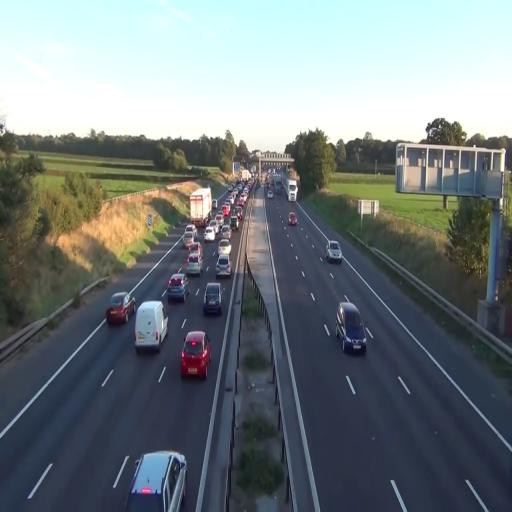vehicle: (126, 450, 188, 512), (134, 299, 169, 355), (134, 300, 169, 354), (336, 300, 366, 354), (180, 330, 211, 379), (190, 186, 212, 231), (106, 291, 134, 326), (203, 283, 223, 316), (166, 273, 188, 303), (185, 250, 203, 276), (215, 253, 232, 277), (326, 240, 342, 262), (288, 212, 297, 226)
